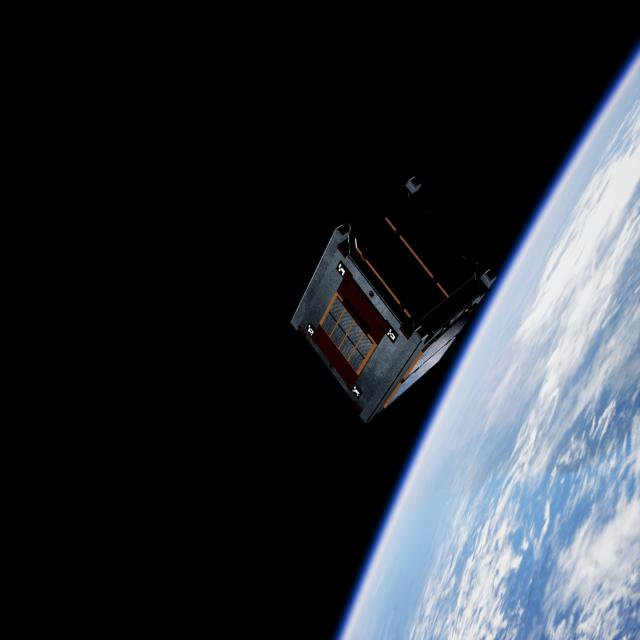satellite: (288, 173, 500, 425)
